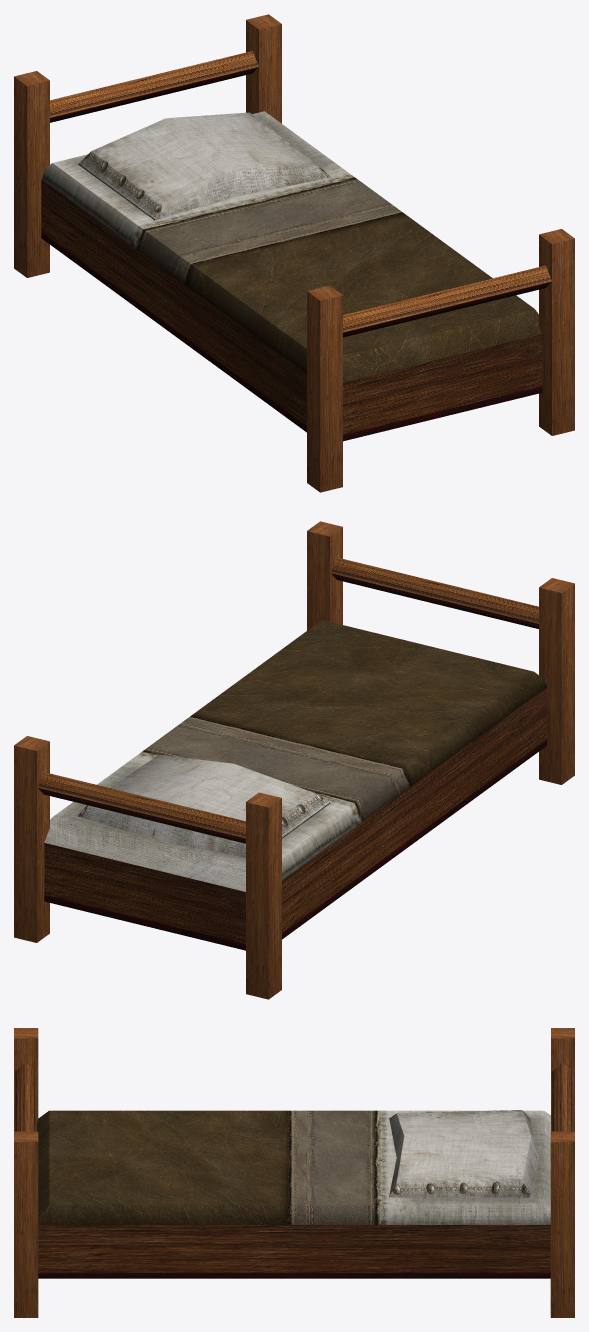
File: mm9_deco_bedmedium.glb
The picture shows the model from 3 angles, top to bottom: view 1: azimuth 30°, elevation 25°; view 2: azimuth 150°, elevation 25°; view 3: azimuth 270°, elevation 25°; orthographic projection. The views are drawn at different scales.
Parts seen in each view (by area): view 1: Bedmedium; view 2: Bedmedium; view 3: Bedmedium.
Part boxes in pixels (x1,y1,x2,y2): Bedmedium: (14,14,574,492); Bedmedium: (14,521,574,999); Bedmedium: (14,1028,574,1317).
Size of the model in its own units: 1.47 by 1.06 by 3.05.
Materials: 2 (2 with a texture image).
